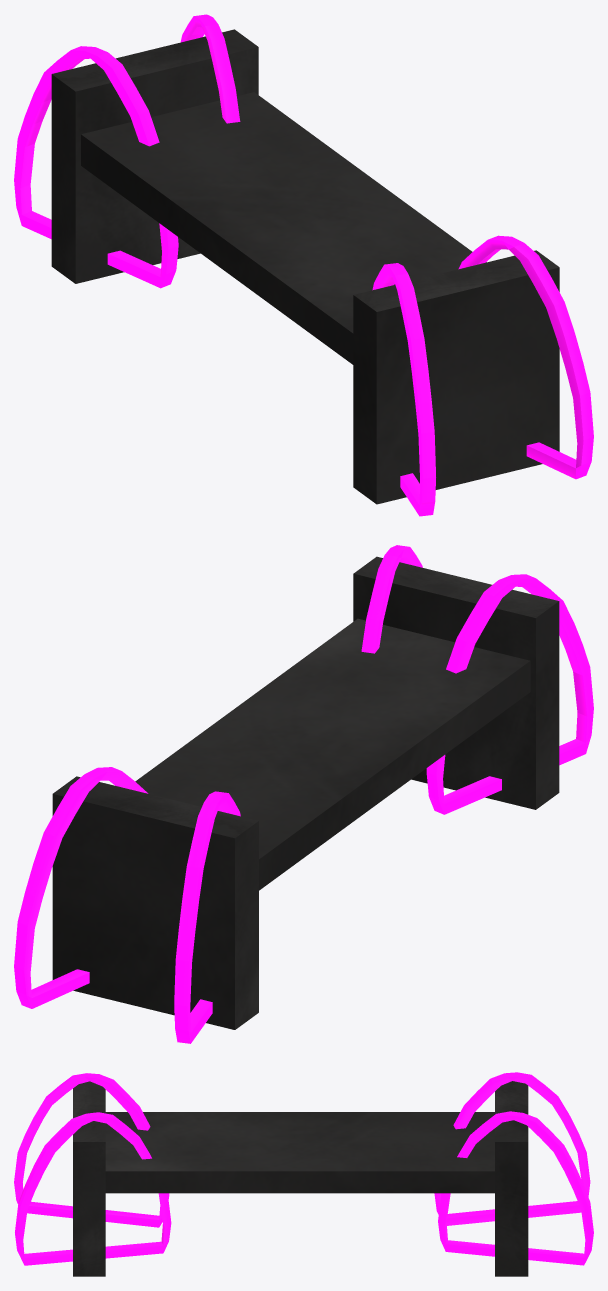
The model's file is Bank_003 1.fbx.
3 renders of one model, top to bottom at view 1: azimuth 30°, elevation 25°; view 2: azimuth 150°, elevation 25°; view 3: azimuth 270°, elevation 25°, orthographic. The views are drawn at different scales.
Parts seen in each view (by area): view 1: Bank.003; view 2: Bank.003; view 3: Bank.003.
Part boxes in pixels (bbox=[...]): Bank.003: bbox=[14, 14, 593, 516]; Bank.003: bbox=[14, 545, 593, 1043]; Bank.003: bbox=[14, 1072, 593, 1276].
Bounding box in the file's own units: 68.66 × 77.24 × 269.
